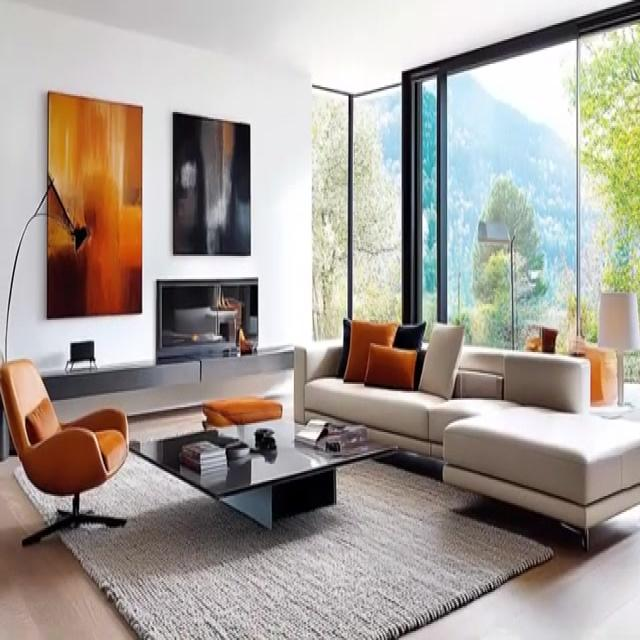obstacle: (293, 325, 639, 551), (128, 416, 398, 530), (0, 356, 129, 548)
